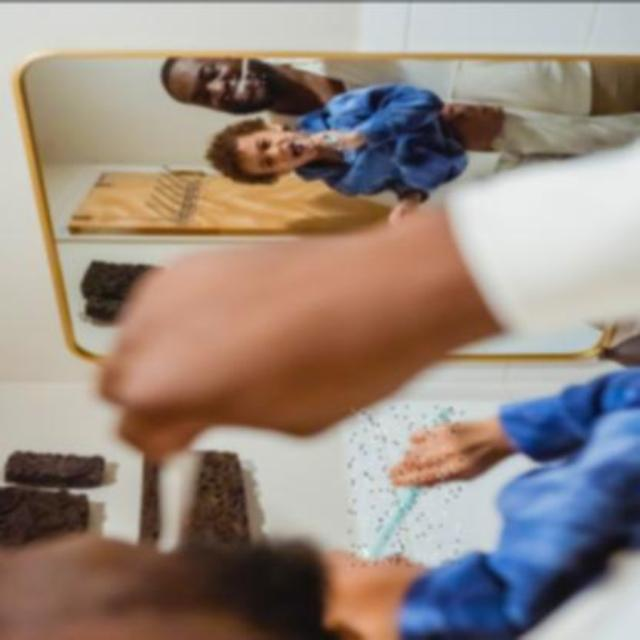toothbrush: (348, 405, 462, 565), (224, 56, 266, 98), (286, 132, 350, 152)
